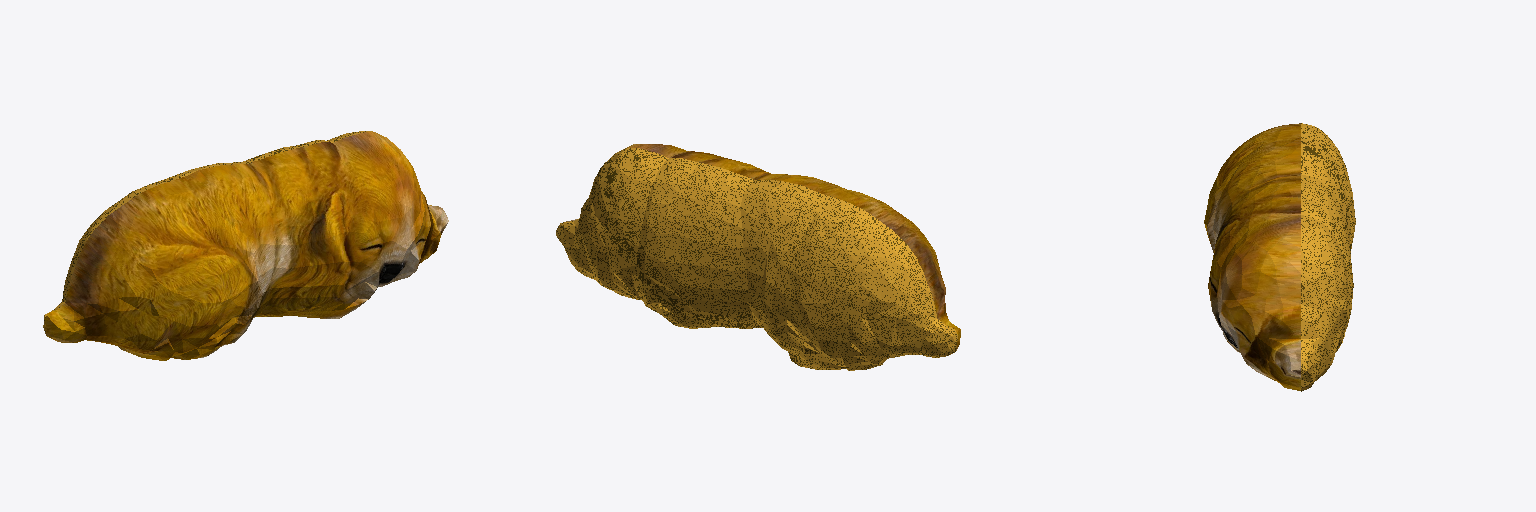
3 views of the same model, side by side, from view 1: azimuth 30°, elevation 25°; view 2: azimuth 150°, elevation 25°; view 3: azimuth 270°, elevation 25° (orthographic).
Parts seen in each view (by area): view 1: Mesh1 Component3_1 Component2_1 Component1_1 Component1 skpFA8_1, Mesh3 Component1_1 Component1 skpFA8_1 Model; view 2: Mesh3 Component1_1 Component1 skpFA8_1 Model, Mesh1 Component3_1 Component2_1 Component1_1 Component1 skpFA8_1; view 3: Mesh1 Component3_1 Component2_1 Component1_1 Component1 skpFA8_1, Mesh3 Component1_1 Component1 skpFA8_1 Model.
Part boxes in pixels (bbox=[...]): Mesh1 Component3_1 Component2_1 Component1_1 Component1 skpFA8_1: bbox=[44, 132, 448, 360]; Mesh3 Component1_1 Component1 skpFA8_1 Model: bbox=[43, 131, 431, 347]; Mesh3 Component1_1 Component1 skpFA8_1 Model: bbox=[556, 148, 957, 370]; Mesh1 Component3_1 Component2_1 Component1_1 Component1 skpFA8_1: bbox=[566, 144, 960, 364]; Mesh1 Component3_1 Component2_1 Component1_1 Component1 skpFA8_1: bbox=[1204, 123, 1300, 390]; Mesh3 Component1_1 Component1 skpFA8_1 Model: bbox=[1301, 123, 1355, 391].
Size of the model in its own units: 0.9 by 0.3826 by 0.2948.
Materials: 3 (1 with a texture image).